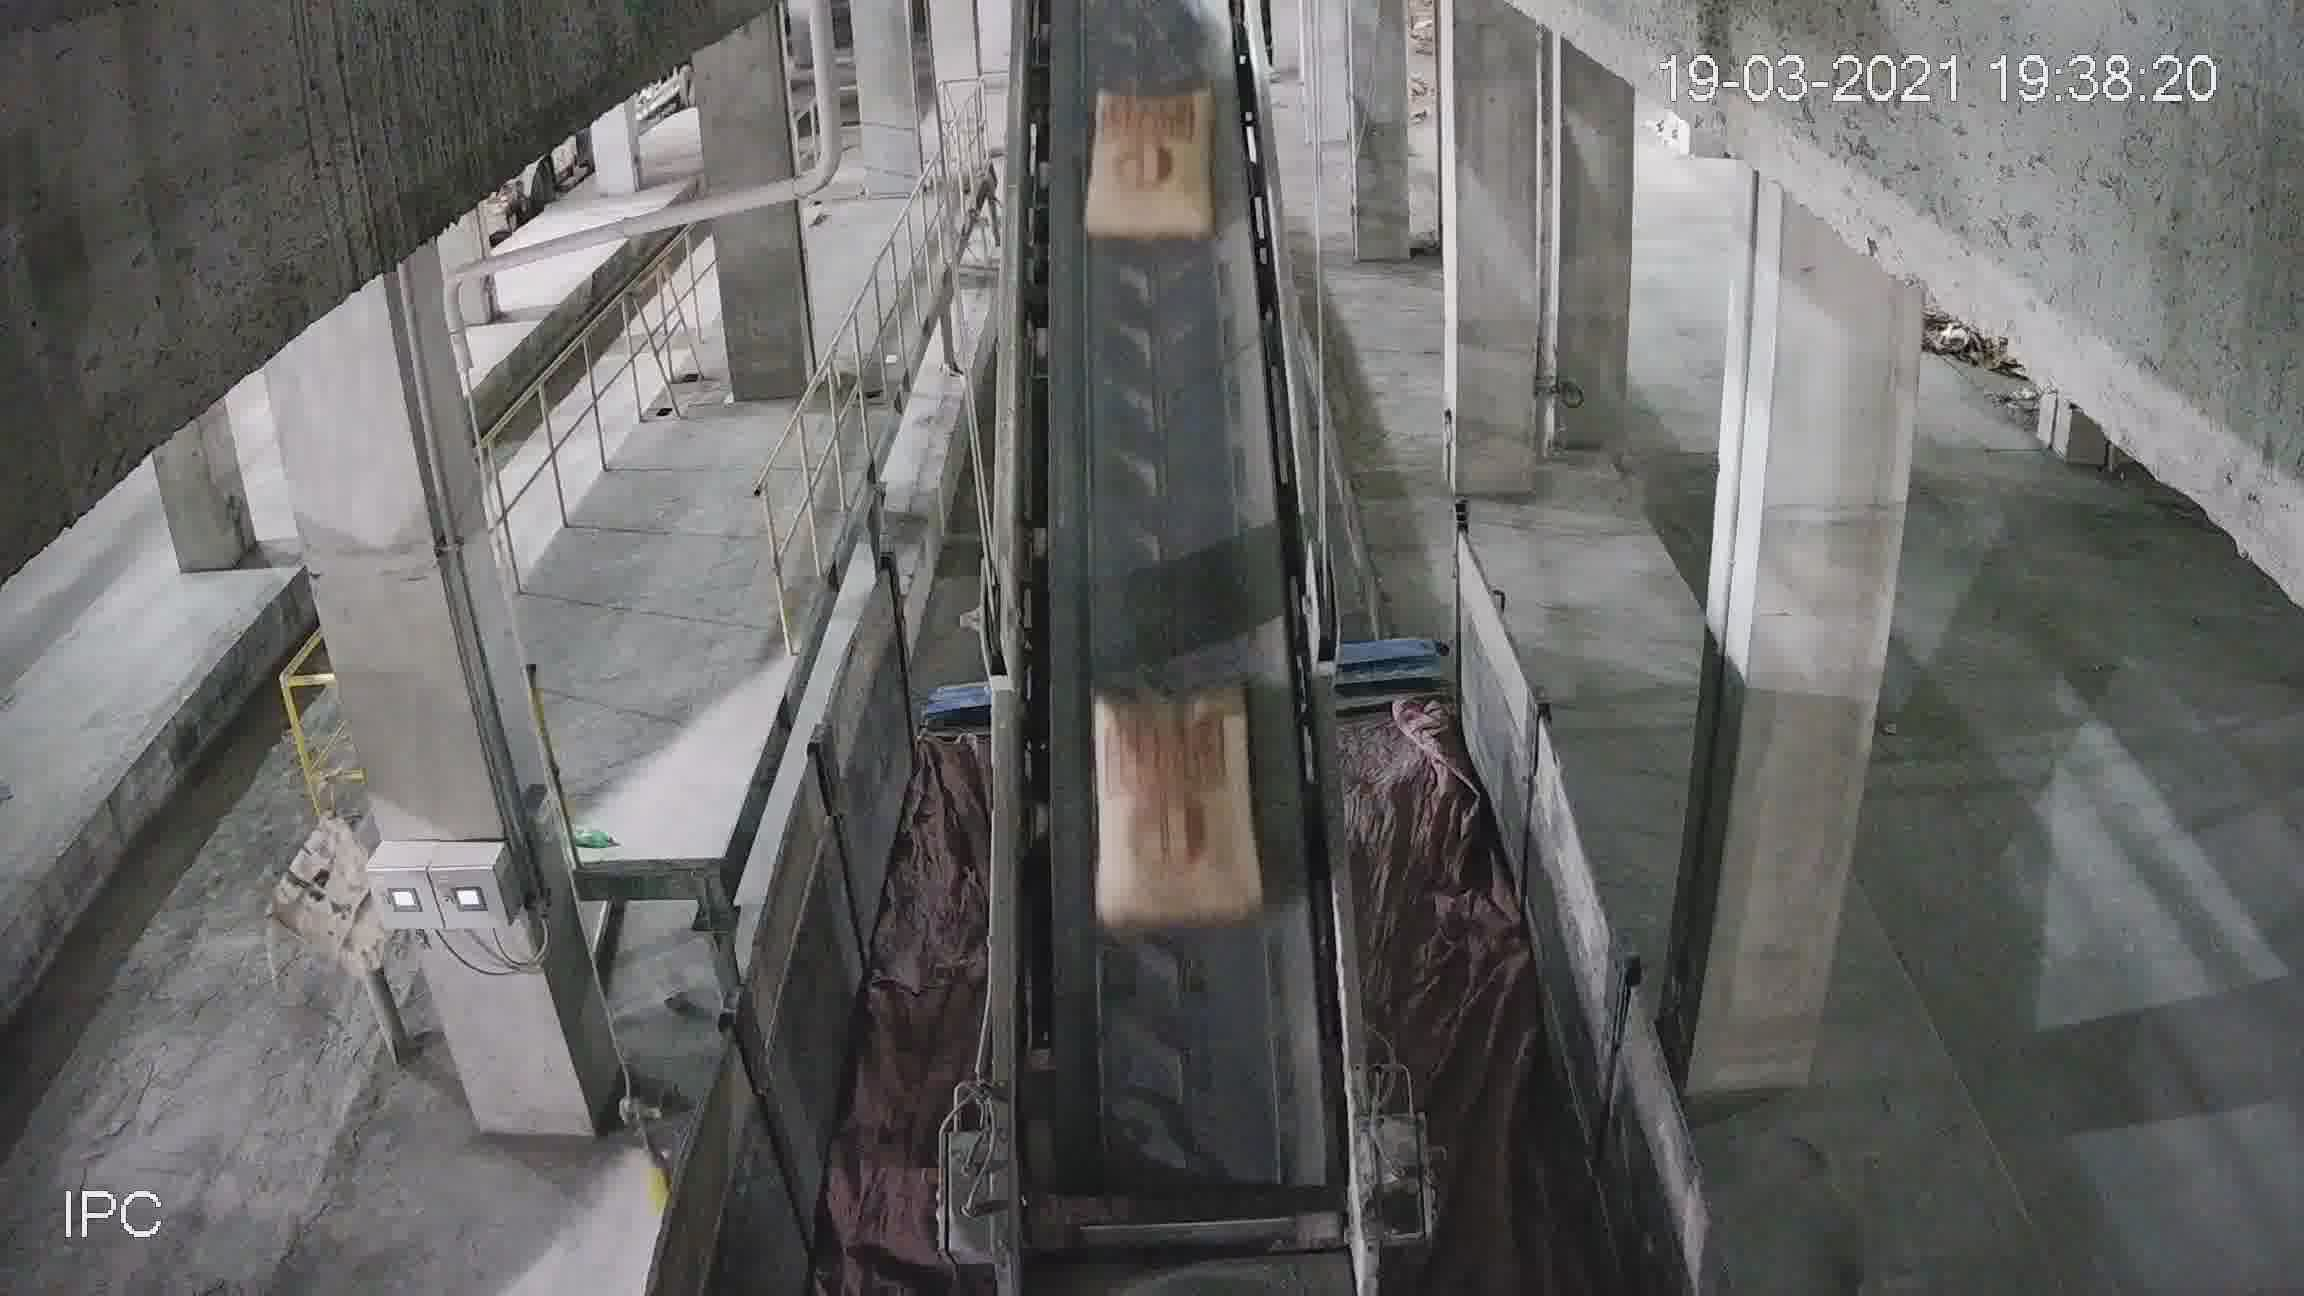bag: (1098, 696, 1256, 929), (1086, 89, 1215, 234)
belt: (1017, 171, 1343, 1296)
